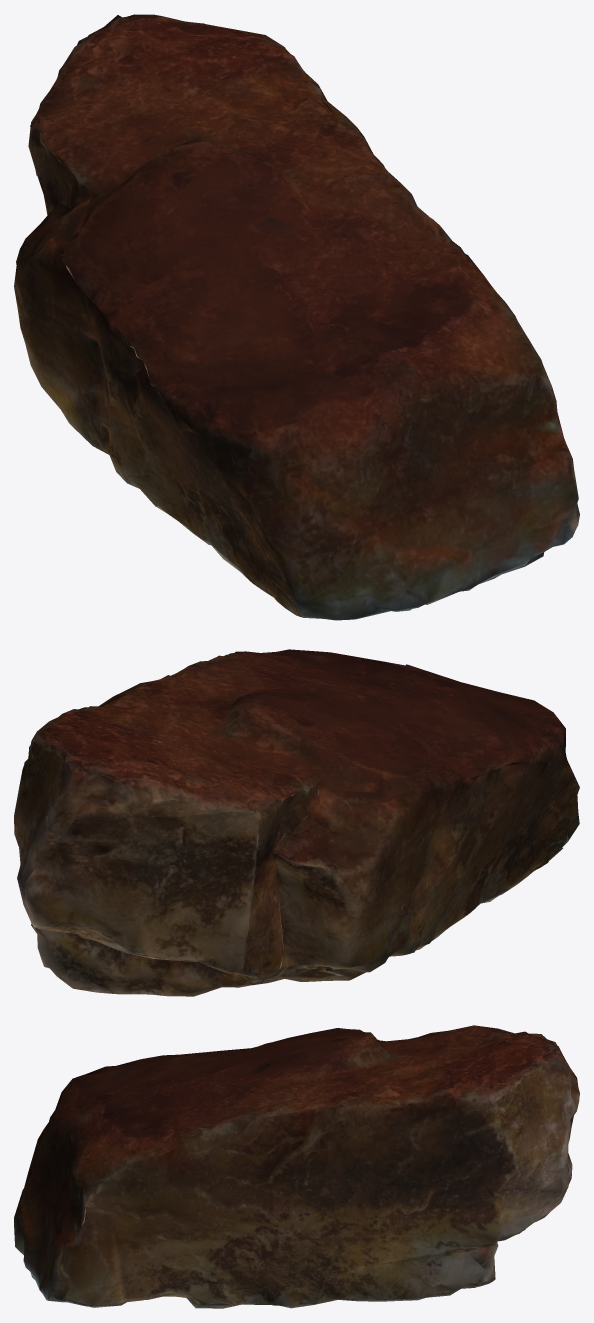
Rendered from ph_rock_07_hi.glb.
3 views of the same model, one above another, from view 1: azimuth 30°, elevation 25°; view 2: azimuth 150°, elevation 25°; view 3: azimuth 270°, elevation 25° (orthographic). The views are drawn at different scales.
Visible parts, largest first — view 1: rock_07; view 2: rock_07; view 3: rock_07.
Part boxes in pixels (x1,y1,x2,y2): rock_07: (14, 14, 579, 620); rock_07: (14, 649, 579, 996); rock_07: (14, 1025, 579, 1308).
Size of the model in its own units: 0.1687 by 0.1437 by 0.3202.
Materials: 1 (1 with a texture image).
